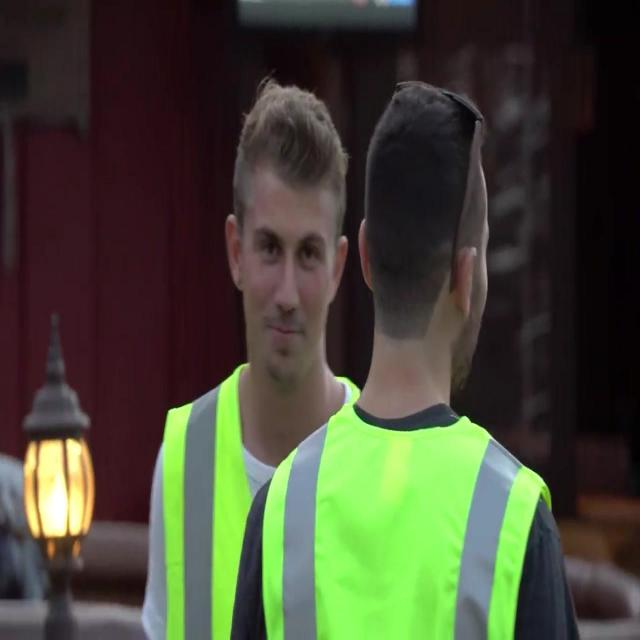Reflective-Jacket: (258, 405, 554, 640), (152, 369, 334, 637)
